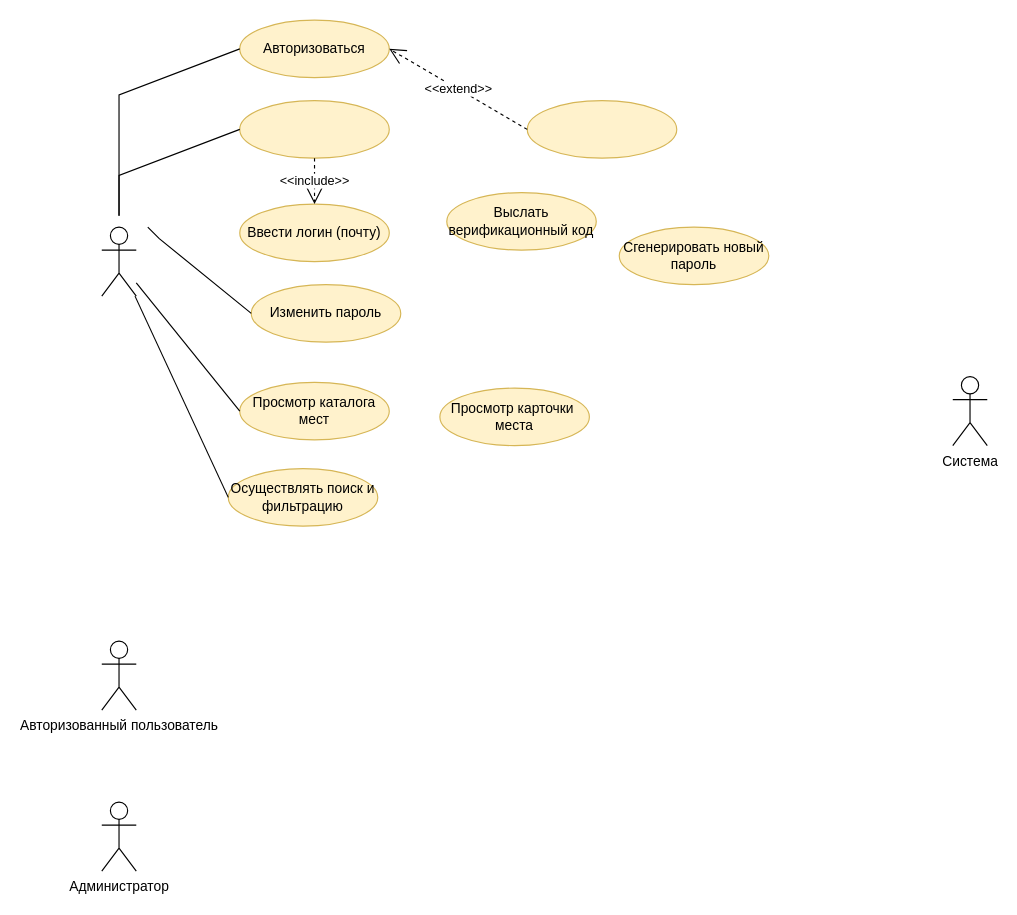
Image size: 1017x915. Some labels were removed from this diagram. Here are the shapes that lost their labels. From the top down, the centre of each, then its label:
At pixel 314 128: "Зарегистрироваться".
At pixel 601 128: "Восстановить пароль".
At pixel 118 261: "Гость".
